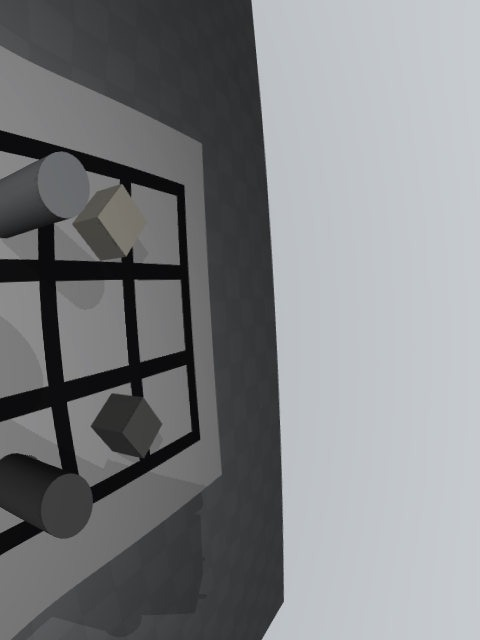can: (0, 151, 90, 238)
cube: (91, 393, 163, 458)
cylinder: (0, 453, 93, 539)
foam: (73, 184, 147, 260)
